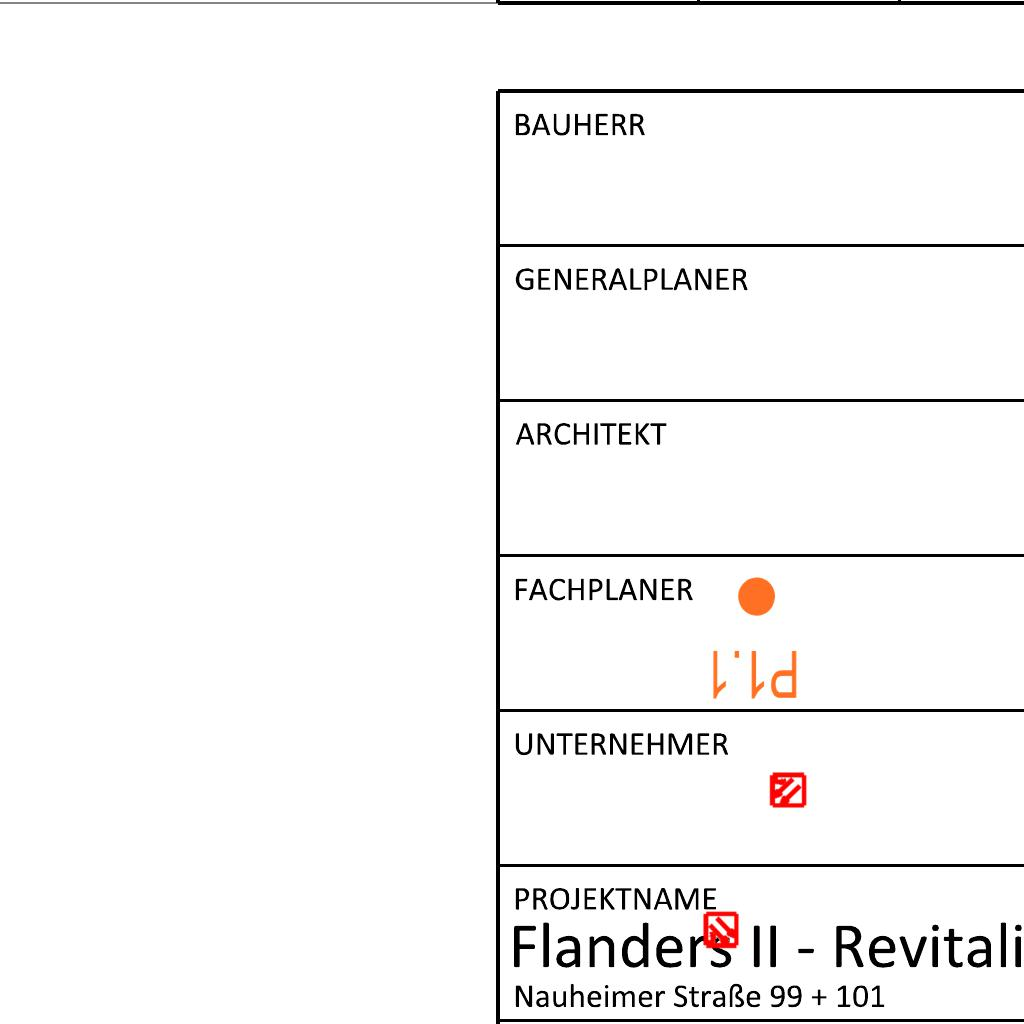Downlight_LED_Einbauleuchten_Flur: (707, 574, 800, 702)
OT_Multisensormelder_(Kombination_RMO_WMD): (693, 903, 749, 959), (759, 762, 815, 818)
